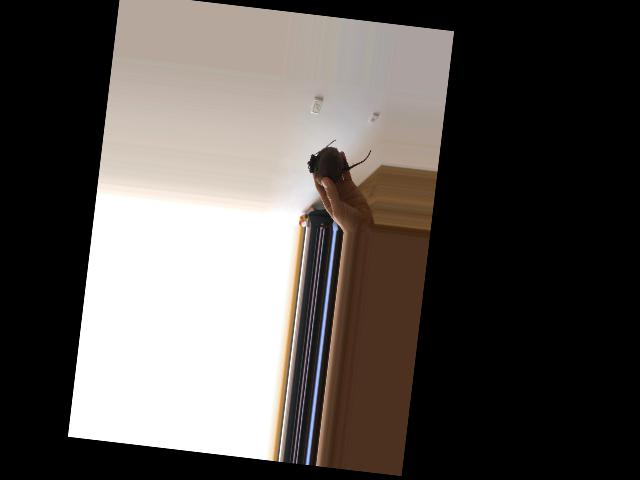beet: (305, 135, 372, 191)
